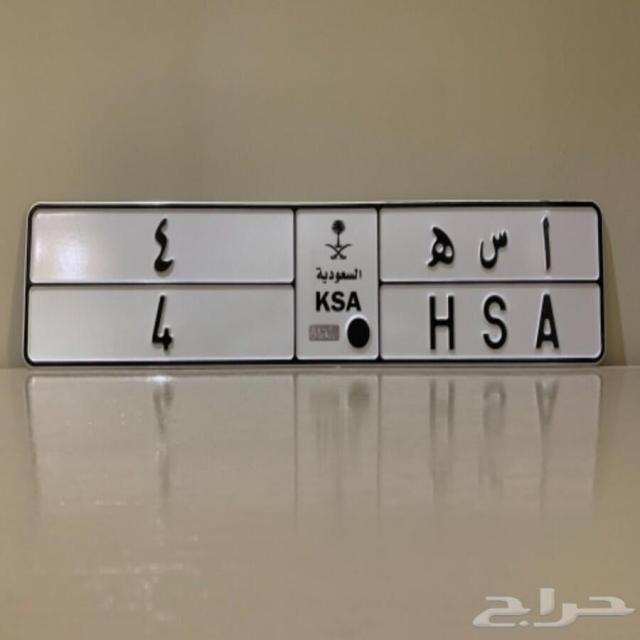license_plate: (24, 282, 606, 367)
